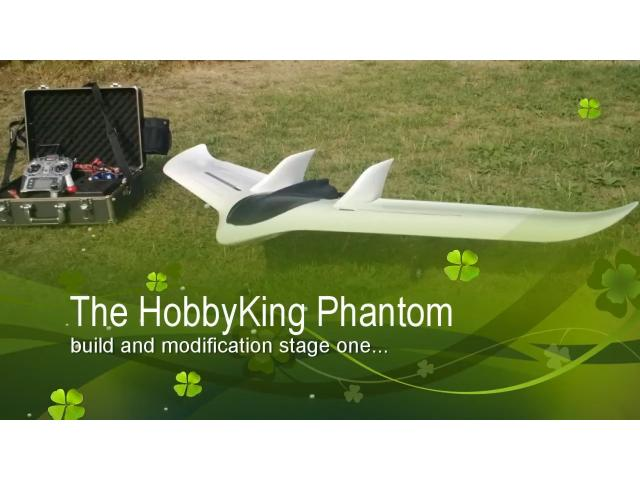Anti-Drone: (158, 119, 640, 265)
